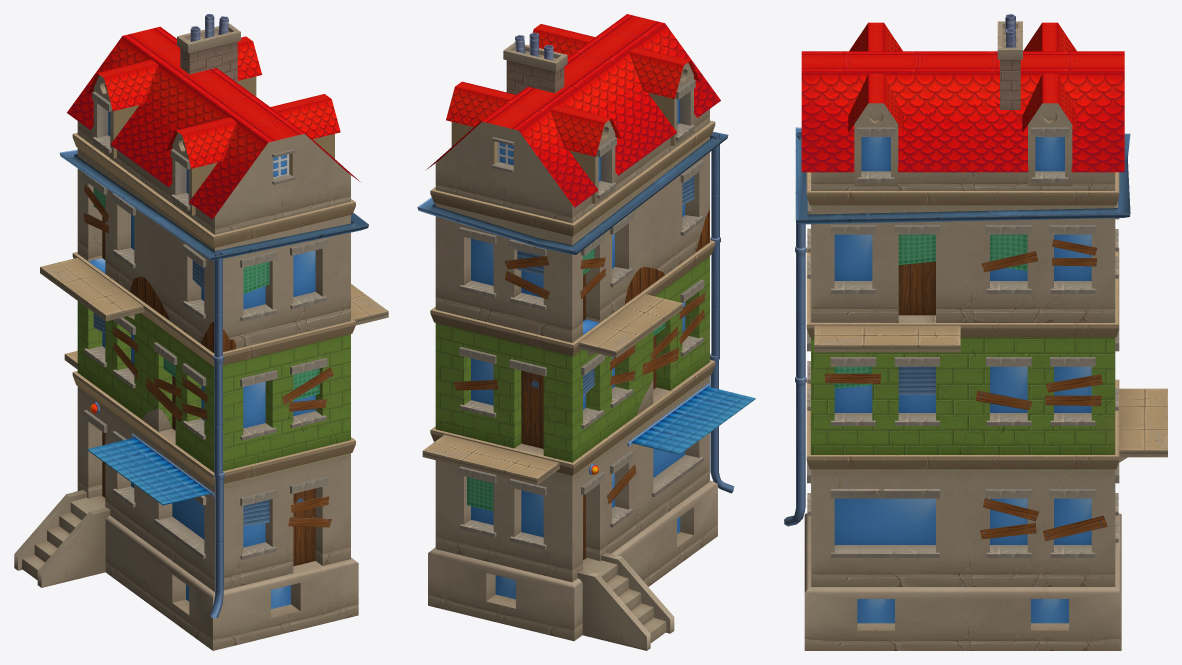
Rendered from Building_01_1_LOD2.fbx.
3 renders of one model, left to right at view 1: azimuth 30°, elevation 25°; view 2: azimuth 150°, elevation 25°; view 3: azimuth 270°, elevation 25°, orthographic. The views are drawn at different scales.
Parts seen in each view (by area): view 1: polySurface3652; view 2: polySurface3652; view 3: polySurface3652.
Boxes of the visible parts, left/top/right/bottom form: polySurface3652: left=14, top=14, right=388, bottom=650; polySurface3652: left=417, top=14, right=755, bottom=650; polySurface3652: left=784, top=14, right=1167, bottom=650.
Size of the model in its own units: 719 by 1534 by 883.
